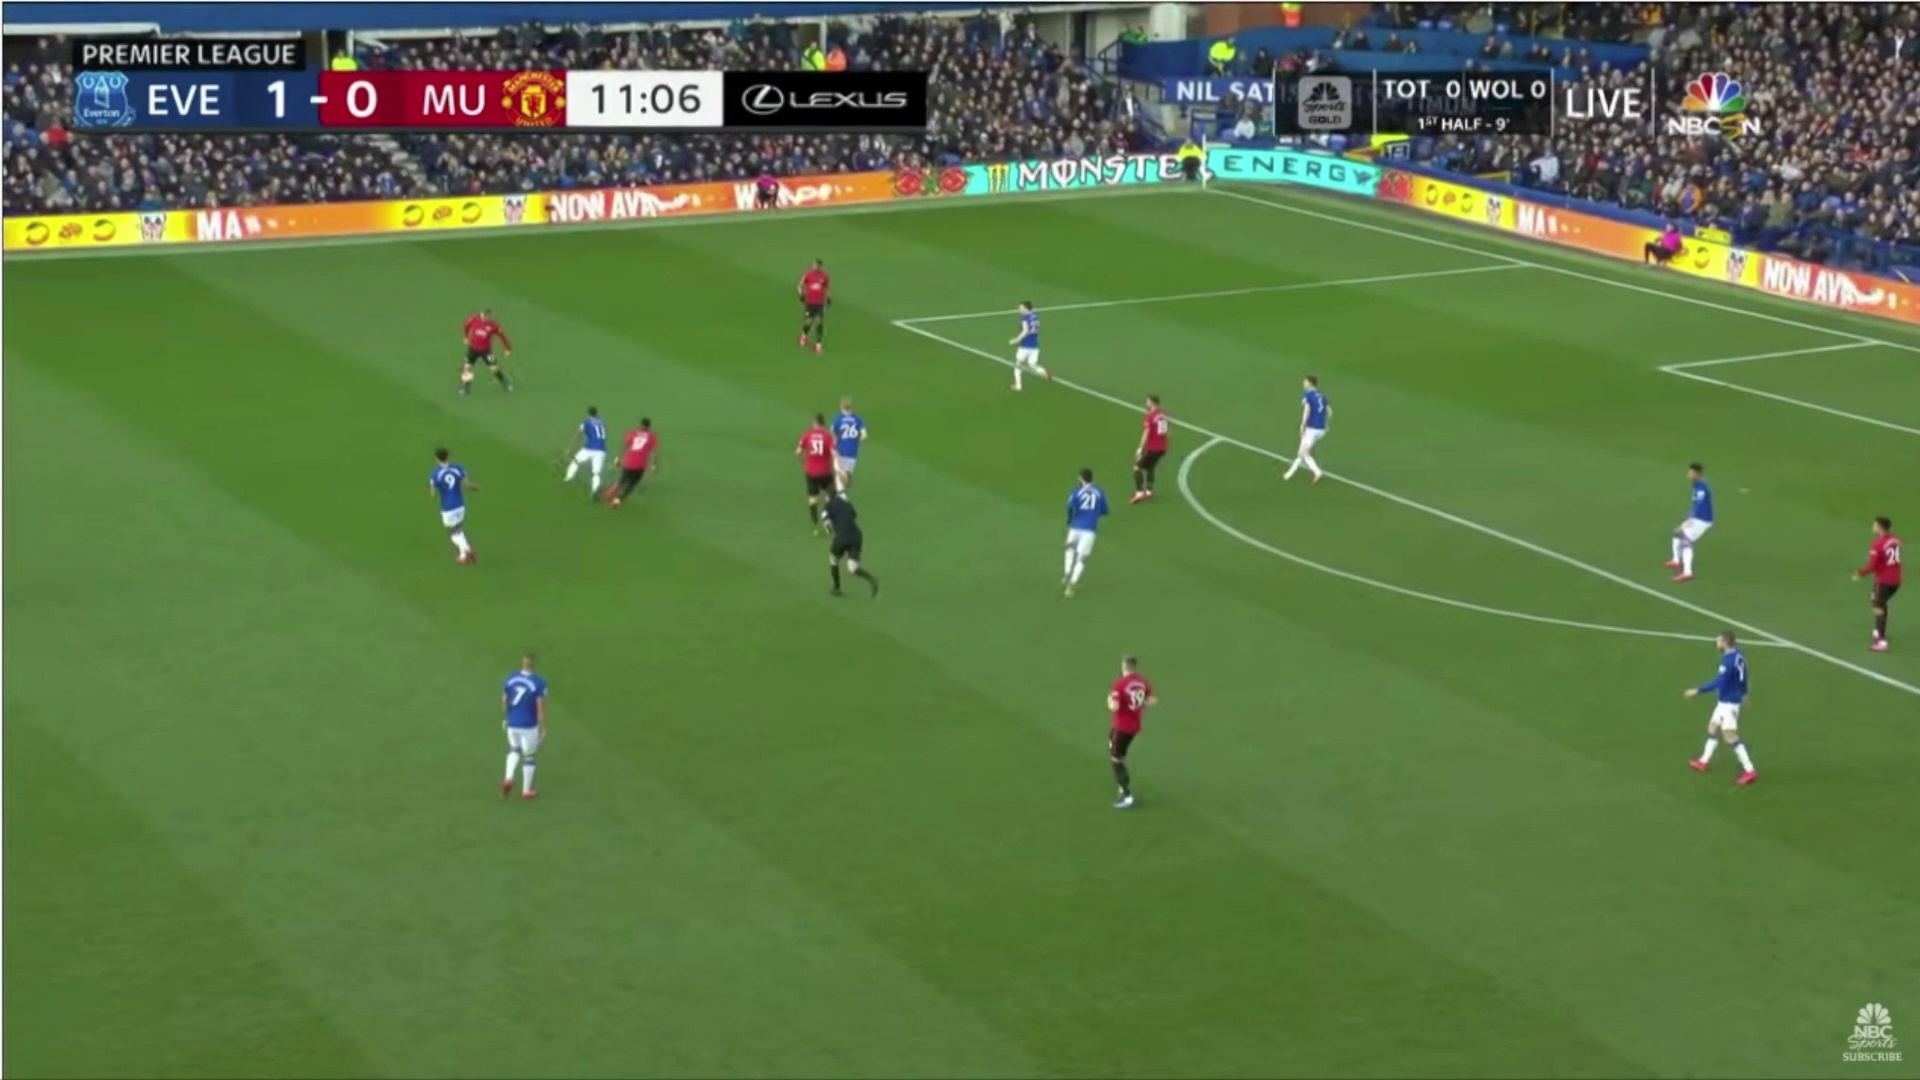ball: (456, 367, 479, 387)
player: (1666, 625, 1785, 798), (1074, 633, 1175, 823), (477, 638, 583, 812), (1831, 498, 1920, 660), (397, 435, 499, 565), (1272, 358, 1354, 498), (770, 237, 852, 363), (1660, 452, 1731, 594), (1056, 454, 1118, 608), (989, 290, 1070, 408), (1116, 388, 1187, 508), (612, 406, 685, 513), (441, 294, 520, 392), (783, 402, 837, 544), (825, 394, 881, 513), (562, 394, 606, 494)
